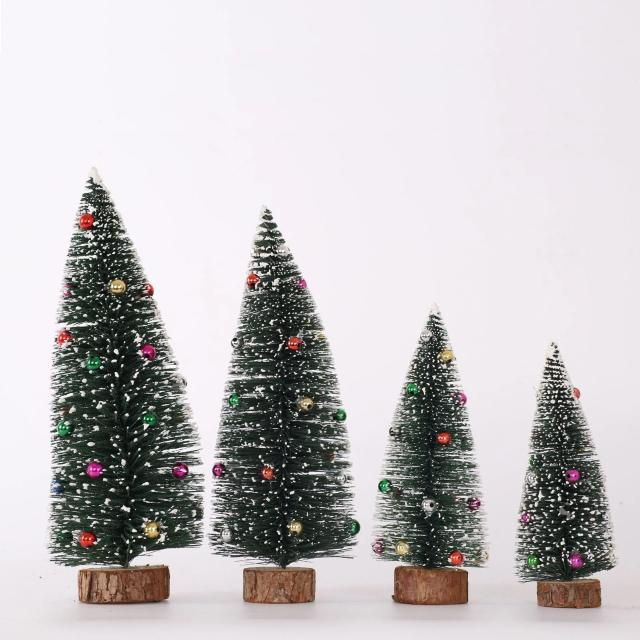Christmas-tree: (30, 158, 214, 606)
